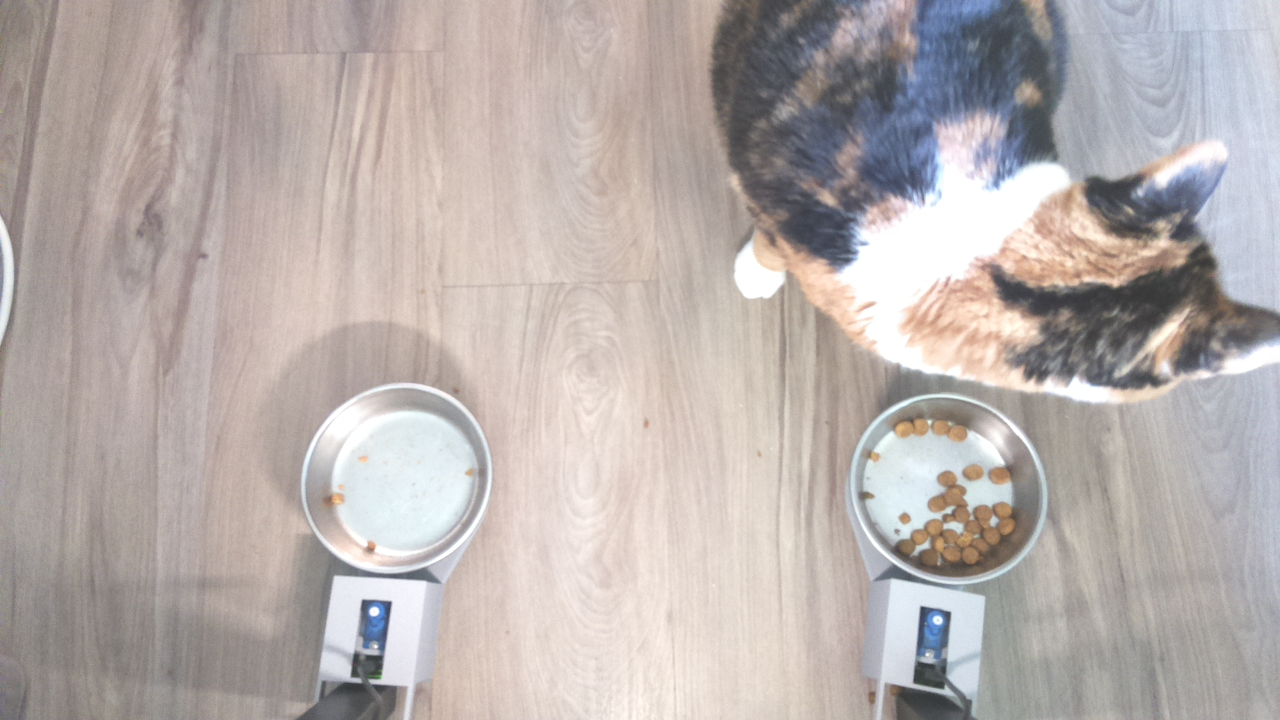bella: (1048, 140, 1280, 411)
open_bowl: (848, 389, 1064, 591), (298, 377, 482, 575)
